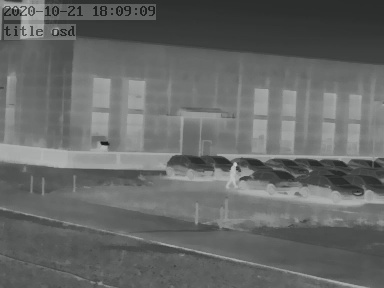person: (226, 161, 237, 189)
vehicle: (300, 170, 361, 199), (241, 168, 304, 192), (165, 153, 214, 179), (349, 173, 383, 200), (205, 152, 242, 176), (232, 155, 271, 173), (261, 155, 303, 171), (347, 156, 379, 170), (317, 157, 347, 170), (296, 156, 325, 169)
